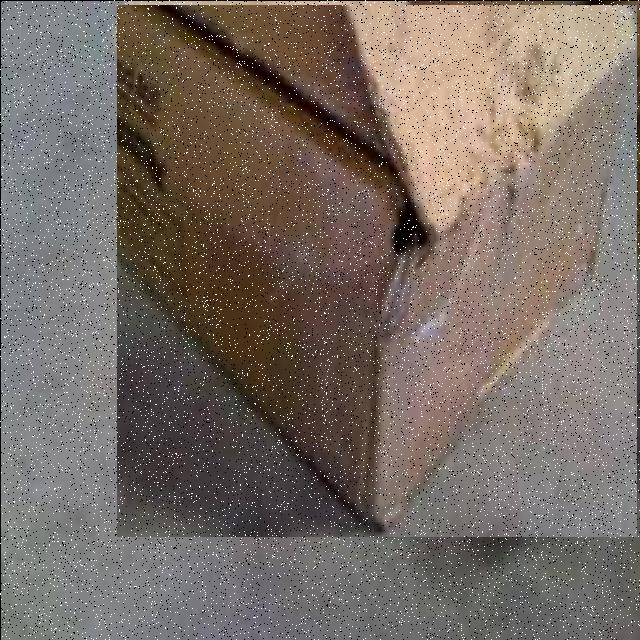defect: (115, 4, 636, 536)
